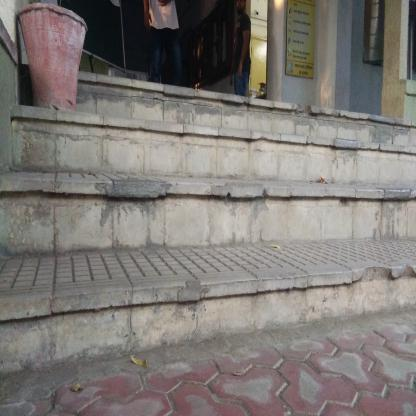stairs: (13, 105, 416, 344)
